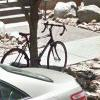Bicycle: (4, 25, 73, 74)
